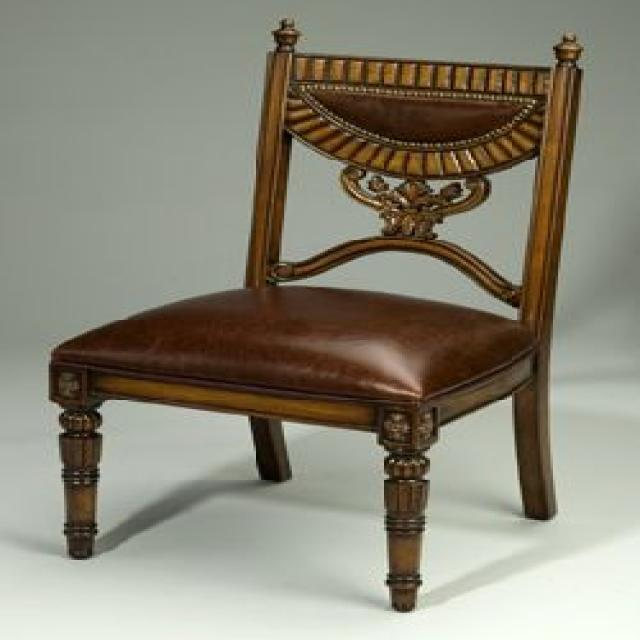chair: (46, 16, 586, 611)
